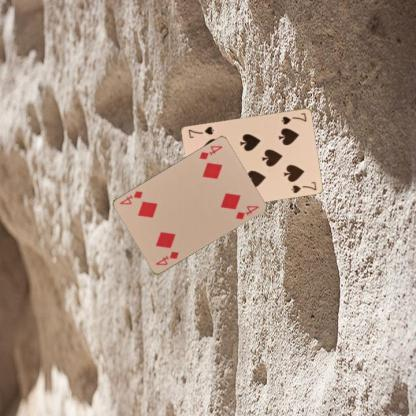4d: (196, 143, 224, 161), (154, 249, 180, 267)
7s: (279, 110, 308, 126)
